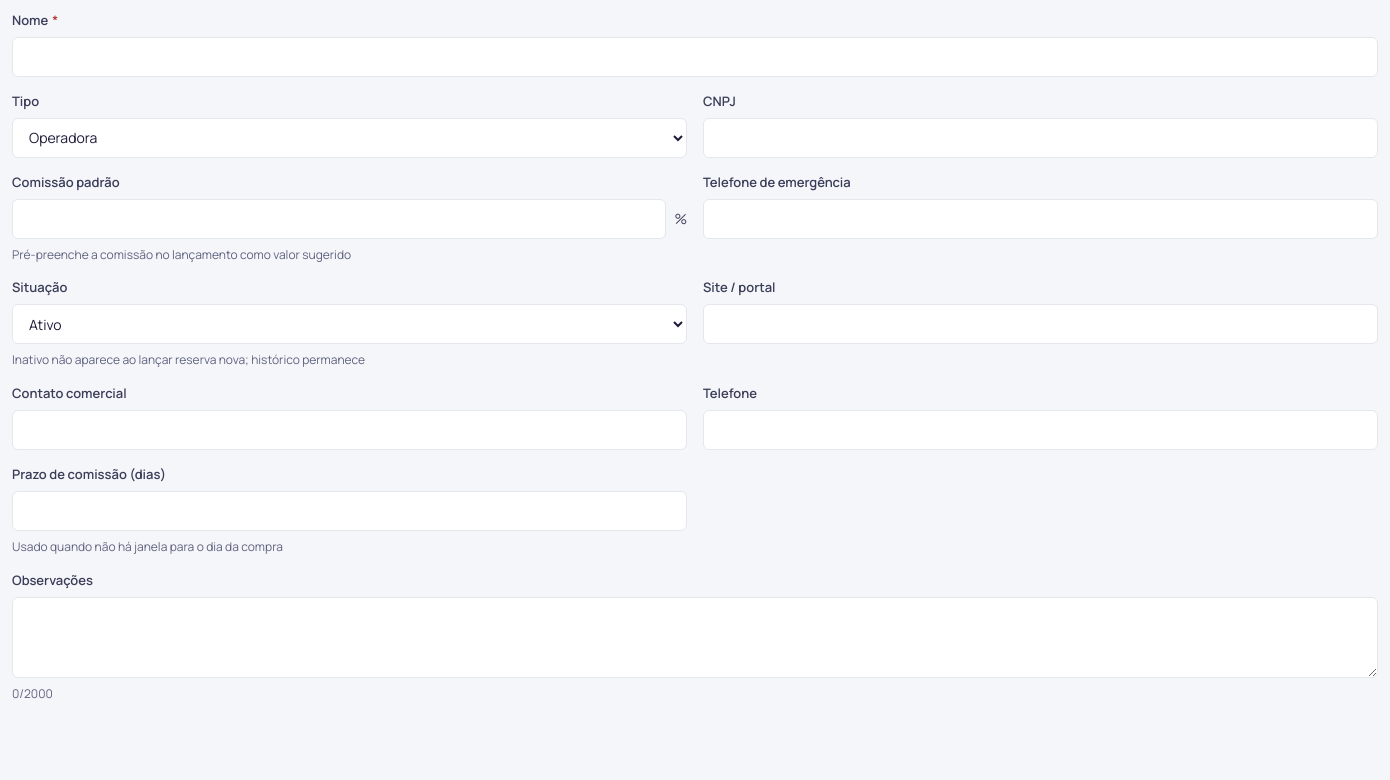
Test: nome vazio, ao sair do campo (blur), mostra erro local
Click the field labelled "Nome *".
click(695, 57)  # box [12,37,1378,77]
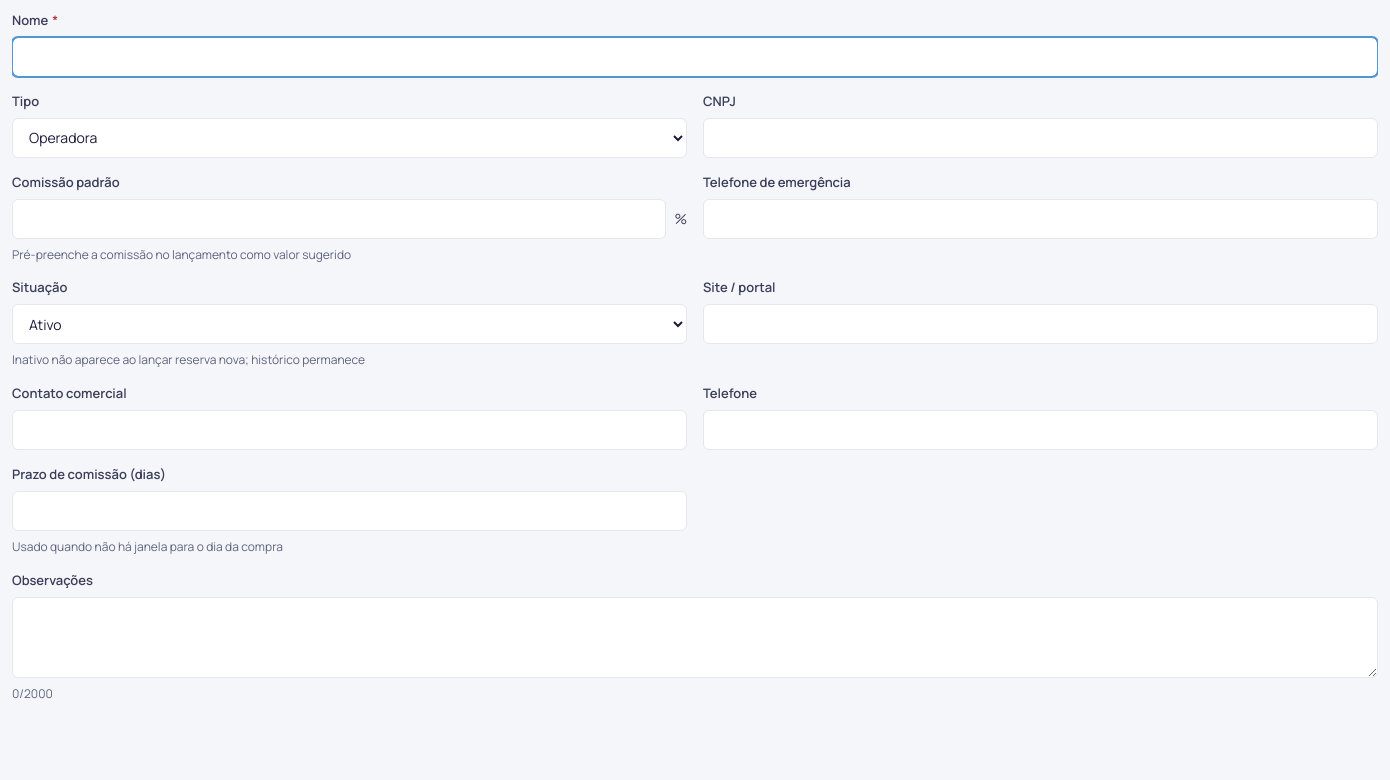
Press Tab
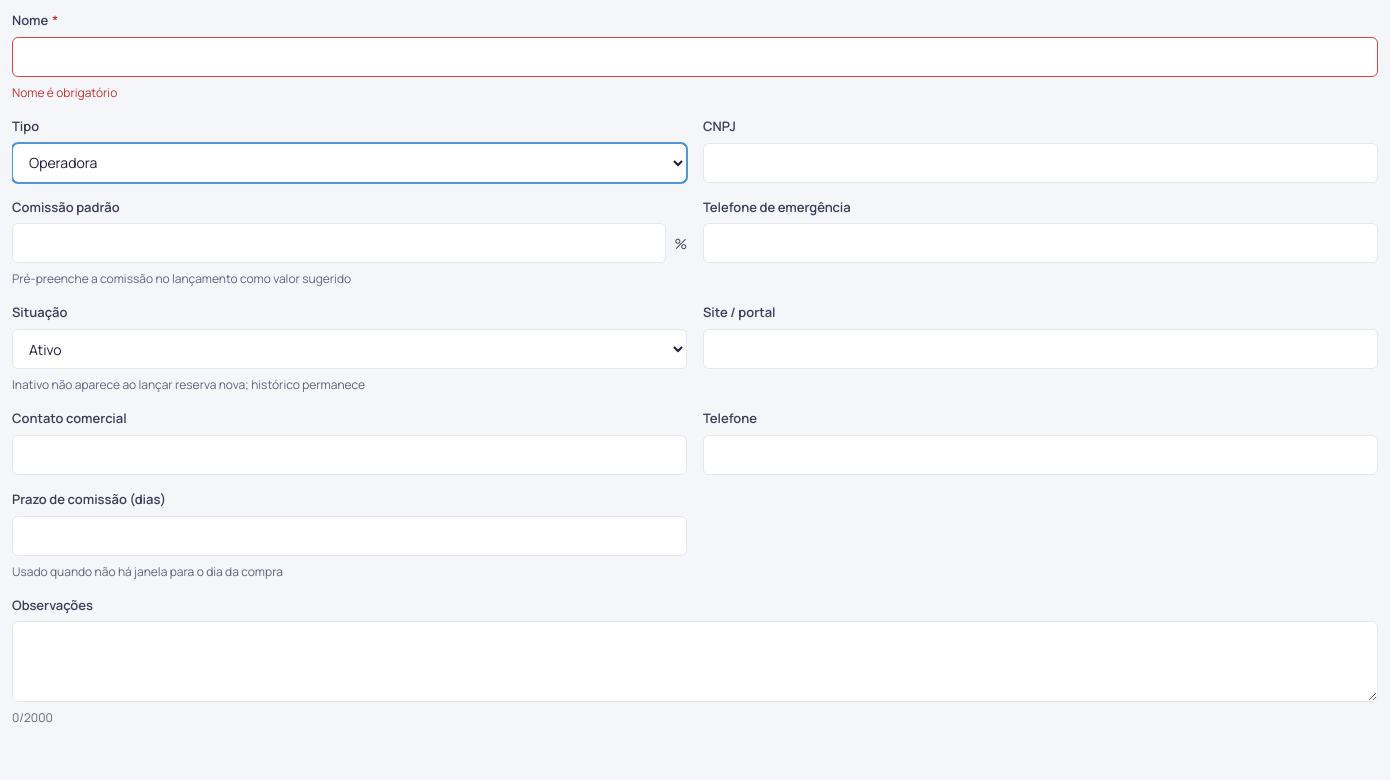
Expected: the text "Nome é obrigatório" is shown, [12,84,117,101]
